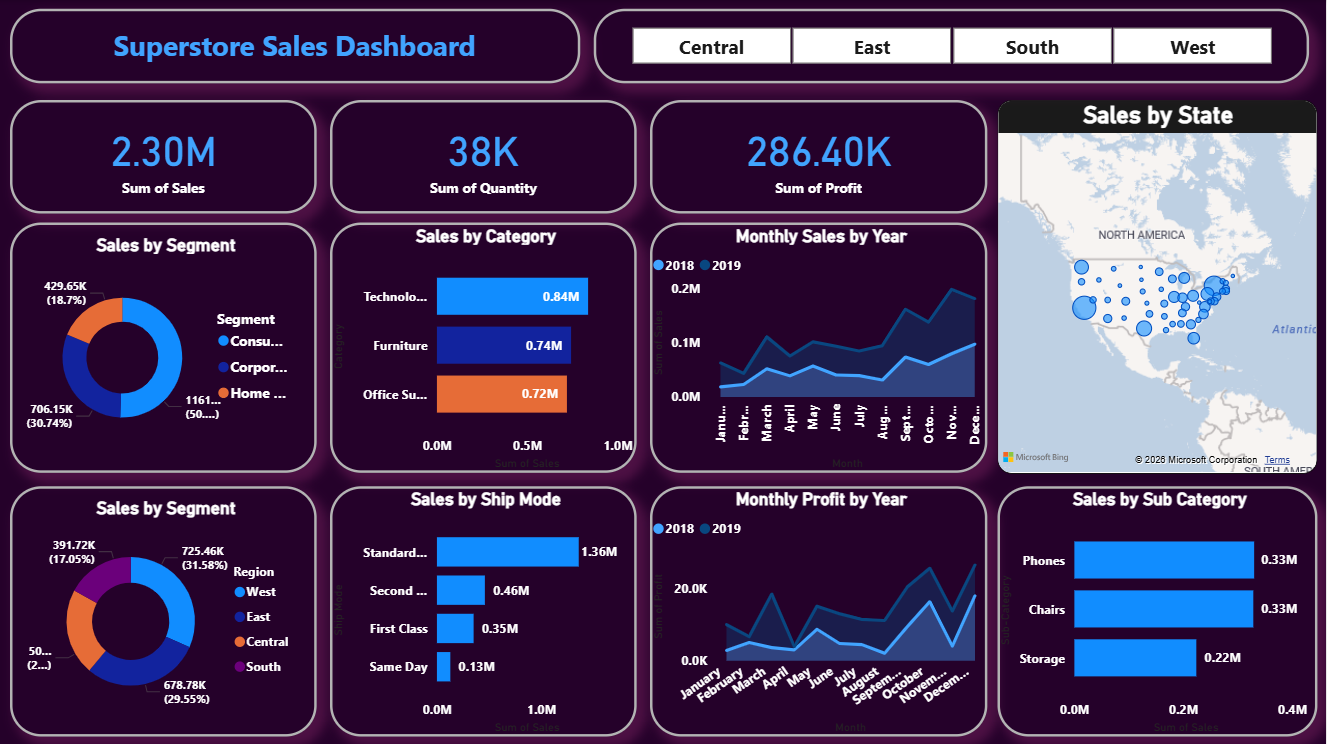

This screenshot's page, from the dashboard's own definition file:
{"tool":"powerbi","page":{"name":"Page 1","canvas":[1280,720],"ordinal":0},"visuals":[{"type":"textbox","box":[9.9,8.6,550.6,71.6],"z":0},{"type":"card","fields":{"Values":["Sum(Orders.Sales)"]},"box":[9.9,96.3,296.3,109.9],"z":1000},{"type":"card","fields":{"Values":["Sum(Orders.Quantity)"]},"box":[318.5,96.3,296.3,109.9],"z":2000},{"type":"card","fields":{"Values":["Sum(Orders.Profit)"]},"box":[627.2,96.3,325.9,109.9],"z":3000},{"type":"donutChart","title":"Sales by Segment","fields":{"Y":["Sum(Orders.Sales)"],"Category":["Orders.Segment"]},"box":[9.9,214.8,296.3,242],"z":4000},{"type":"donutChart","title":"Sales by Segment","fields":{"Y":["Sum(Orders.Sales)"],"Category":["Orders.Region"]},"box":[9.9,469.1,296.3,242],"z":5000},{"type":"barChart","title":"Sales by Category","fields":{"Category":["Orders.Category"],"Y":["Sum(Orders.Sales)"],"Series":["Orders.Category"]},"box":[318.5,214.8,296.3,242],"z":6000},{"type":"barChart","title":"Sales by Ship Mode","fields":{"Y":["Sum(Orders.Sales)"],"Category":["Orders.Ship Mode"]},"box":[318.5,469.1,296.3,242],"z":7000},{"type":"stackedAreaChart","title":"Monthly Sales by Year","fields":{"Y":["Sum(Orders.Sales)"],"Category":["Orders.Order Date.Variation.Date Hierarchy.Month"],"Series":["Orders.Order Date.Variation.Date Hierarchy.Year"]},"box":[627.2,214.8,325.9,242],"z":8000},{"type":"stackedAreaChart","title":"Monthly Profit by Year","fields":{"Y":["Sum(Orders.Profit)"],"Category":["Orders.Order Date.Variation.Date Hierarchy.Month"],"Series":["Orders.Order Date.Variation.Date Hierarchy.Year"]},"box":[627.2,469.1,325.9,242],"z":9000},{"type":"barChart","title":"Sales by Sub Category","fields":{"Y":["Sum(Orders.Sales)"],"Category":["Orders.Sub-Category"]},"box":[963,469.1,308.6,242],"z":10000},{"type":"map","title":"Sales by State","fields":{"Size":["Sum(Orders.Sales)"],"Category":["Orders.State"]},"box":[963,96.3,308.6,360.5],"z":11000},{"type":"slicer","fields":{"Values":["Orders.Region"]},"box":[572.8,8.6,690.1,71.6],"z":12000}]}

Visuals, with their boxes in screenshot pixels (x1, y1, x2, y2), scaled from the page's 1280x720 canvas onto the 1327x744 screenshot:
textbox: bbox=[10, 9, 581, 83]
card - Sum(Orders.Sales): bbox=[10, 100, 317, 213]
card - Sum(Orders.Quantity): bbox=[330, 100, 637, 213]
card - Sum(Orders.Profit): bbox=[650, 100, 988, 213]
"Sales by Segment" donutChart: bbox=[10, 222, 317, 472]
"Sales by Segment" donutChart: bbox=[10, 485, 317, 735]
"Sales by Category" barChart: bbox=[330, 222, 637, 472]
"Sales by Ship Mode" barChart: bbox=[330, 485, 637, 735]
"Monthly Sales by Year" stackedAreaChart: bbox=[650, 222, 988, 472]
"Monthly Profit by Year" stackedAreaChart: bbox=[650, 485, 988, 735]
"Sales by Sub Category" barChart: bbox=[998, 485, 1318, 735]
"Sales by State" map: bbox=[998, 100, 1318, 472]
slicer - Orders.Region: bbox=[594, 9, 1309, 83]
